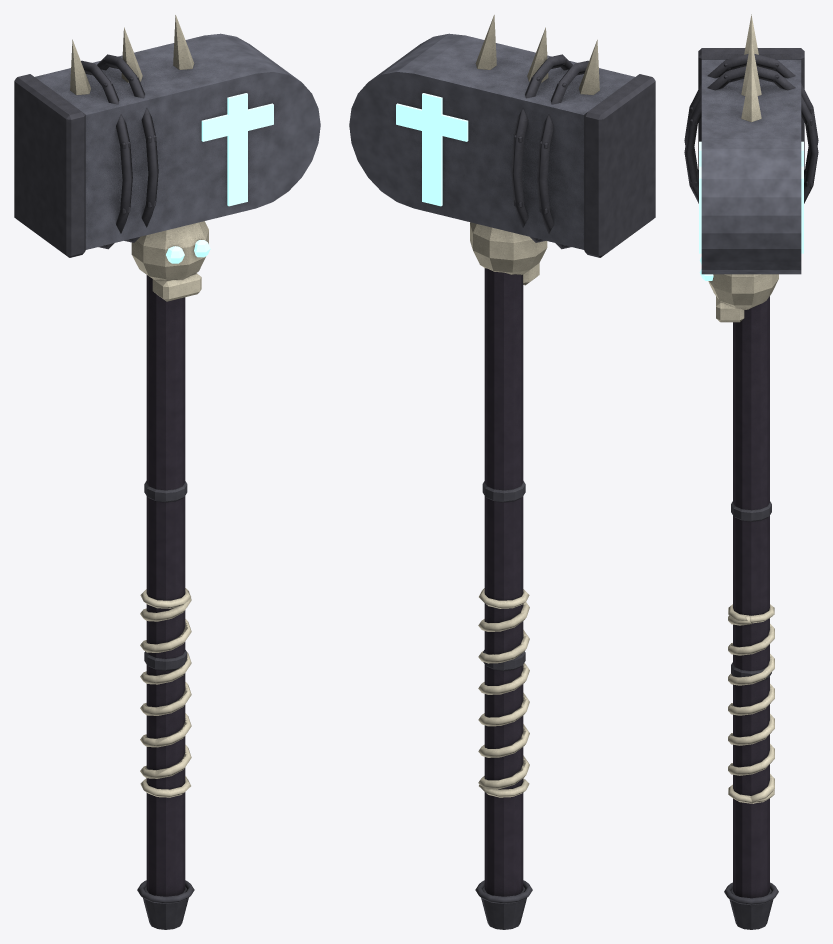
File: 09_dead_heavy.fbx
The picture shows the model from 3 angles, left to right: view 1: azimuth 30°, elevation 25°; view 2: azimuth 150°, elevation 25°; view 3: azimuth 270°, elevation 25°; orthographic projection. The views are drawn at different scales.
Parts seen in each view (by area): view 1: Weapon; view 2: Weapon; view 3: Weapon.
Part boxes in pixels (bbox=[...]): Weapon: bbox=[14, 15, 320, 929]; Weapon: bbox=[349, 15, 655, 929]; Weapon: bbox=[684, 14, 818, 929].
Bounding box in the file's own units: 41.12 × 140 × 19.65.
2 materials, 1 textured.
